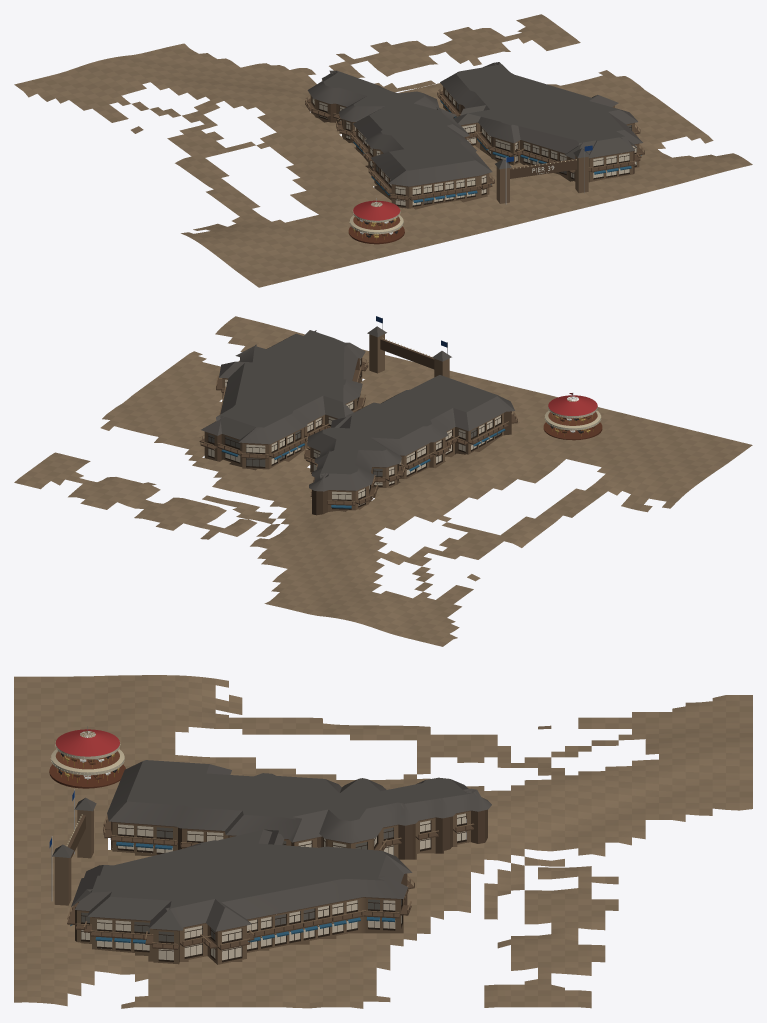
The model's file is pier39_lod0.glb.
3 views of the same model, one above another, from view 1: azimuth 30°, elevation 25°; view 2: azimuth 150°, elevation 25°; view 3: azimuth 270°, elevation 25° (orthographic). The views are drawn at different scales.
Visible parts, largest first — view 1: L0_wood, L0_roof, L0_shop, L0_metal, L0_paint, L0_fabric; view 2: L0_wood, L0_roof, L0_shop, L0_metal, L0_paint; view 3: L0_wood, L0_roof, L0_shop, L0_metal, L0_paint, L0_fabric.
Part boxes in pixels (x1,y1,x2,y2): L0_wood: (14, 14, 752, 287); L0_roof: (307, 62, 642, 186); L0_shop: (312, 89, 636, 205); L0_metal: (311, 88, 636, 207); L0_paint: (350, 200, 403, 238); L0_fabric: (353, 100, 641, 202); L0_wood: (14, 316, 752, 646); L0_roof: (201, 326, 514, 491); L0_shop: (208, 358, 500, 505); L0_metal: (207, 318, 573, 509); L0_paint: (545, 395, 600, 433); L0_wood: (14, 675, 752, 1008); L0_roof: (52, 760, 491, 931); L0_shop: (81, 813, 465, 960); L0_metal: (51, 726, 466, 962); L0_paint: (51, 729, 124, 779); L0_fabric: (49, 791, 395, 943).
Bounding box in the file's own units: 174 × 19.64 × 165.
